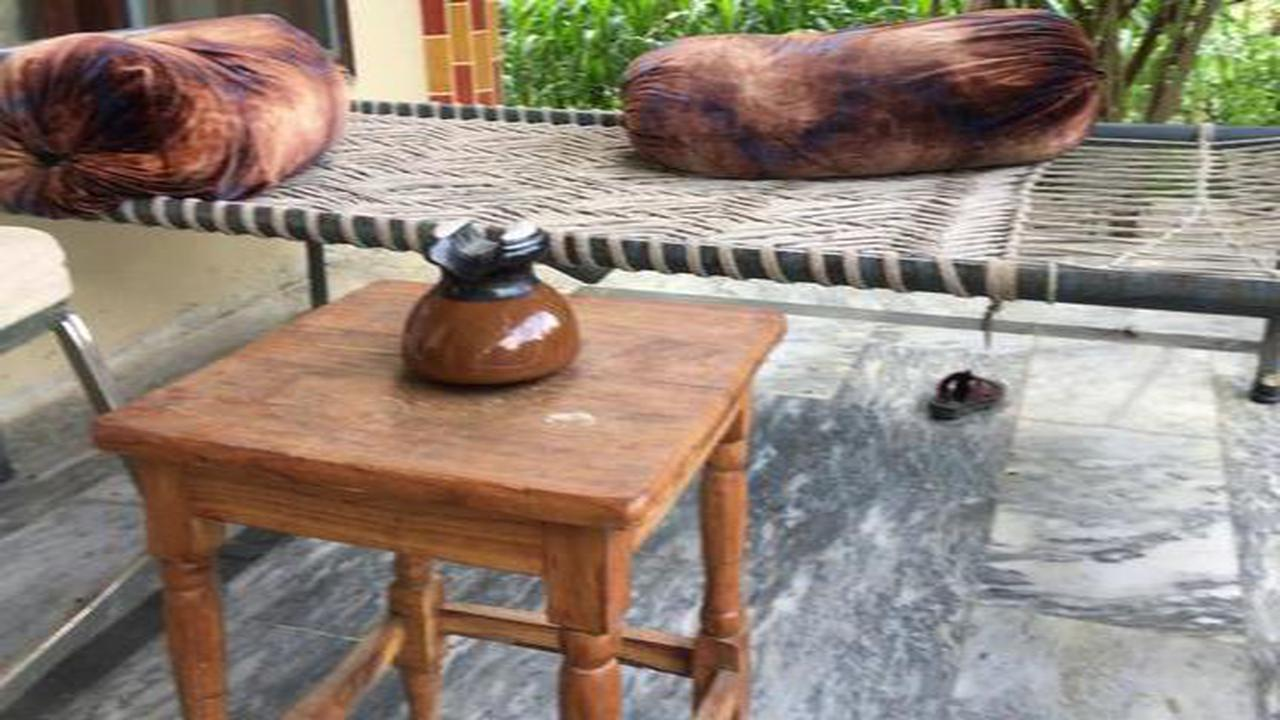insulator_pin: (382, 213, 604, 402)
